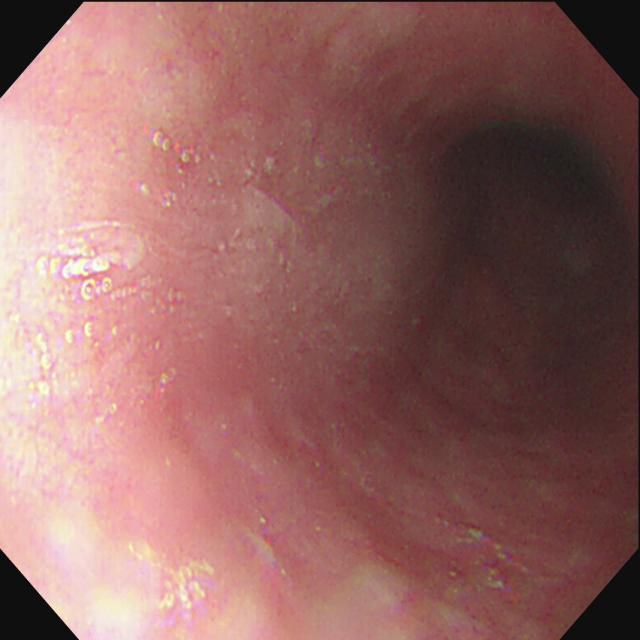E: (465, 109, 622, 261)
J: (229, 152, 303, 276)
T: (36, 256, 114, 304)
U: (129, 535, 217, 632)
